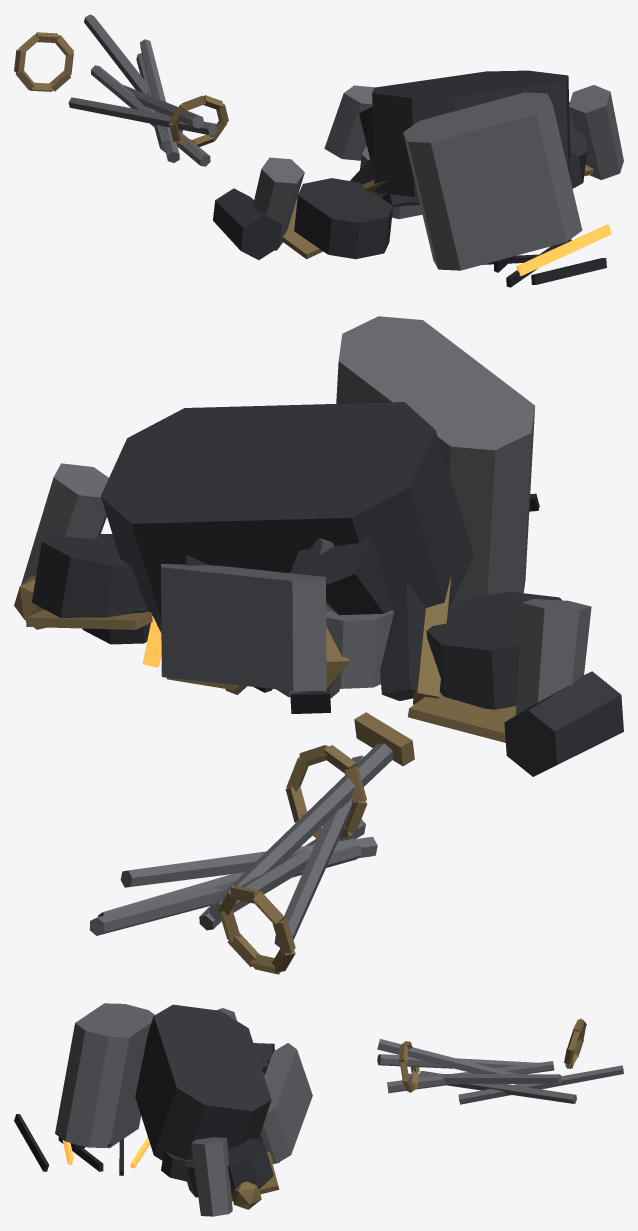
The model's file is Wreck_Aegis_Hailstorm.fbx.
3 renders of one model, top to bottom at view 1: azimuth 30°, elevation 25°; view 2: azimuth 150°, elevation 25°; view 3: azimuth 270°, elevation 25°, orthographic. The views are drawn at different scales.
Visible parts, largest first — view 1: Wreck_Aegis_Hailstorm; view 2: Wreck_Aegis_Hailstorm; view 3: Wreck_Aegis_Hailstorm.
Part boxes in pixels (left/top/right/bottom): Wreck_Aegis_Hailstorm: left=14, top=14, right=623, bottom=287; Wreck_Aegis_Hailstorm: left=14, top=316, right=623, bottom=974; Wreck_Aegis_Hailstorm: left=14, top=1003, right=623, bottom=1216.
Size of the model in its own units: 0.9464 by 0.3791 by 1.53.
